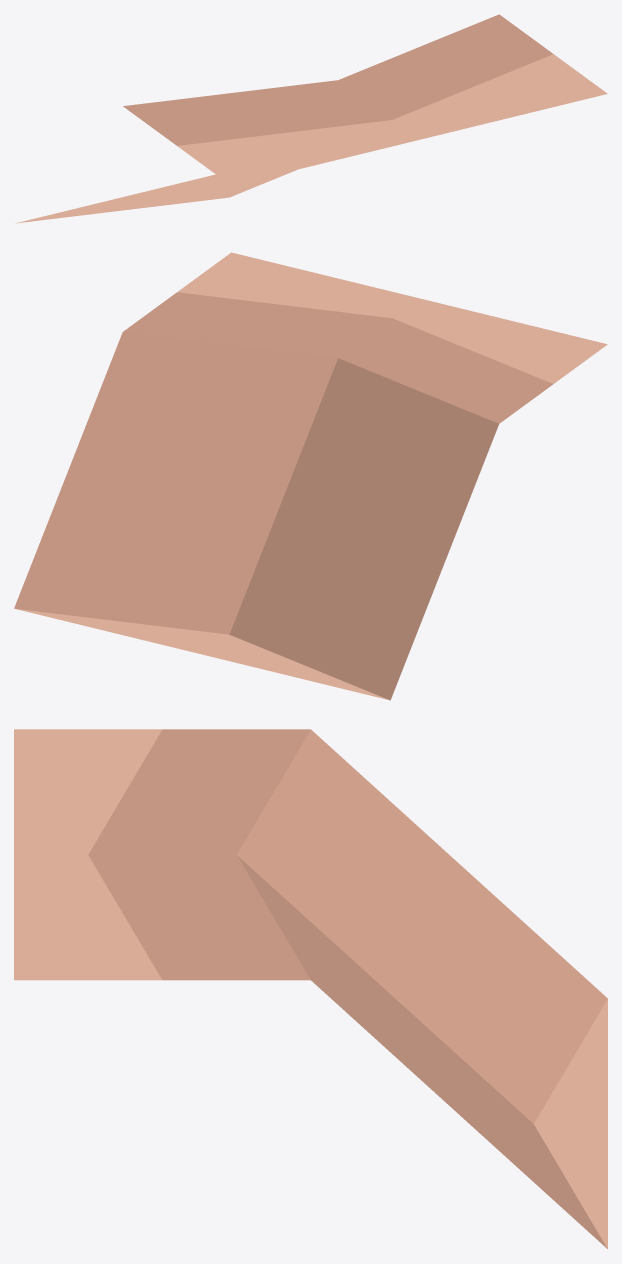
File: terrain_sidecliff.glb
3 renders of one model, top to bottom at view 1: azimuth 30°, elevation 25°; view 2: azimuth 150°, elevation 25°; view 3: azimuth 270°, elevation 25°, orthographic. The views are drawn at different scales.
Visible parts, largest first — view 1: terrain_sideCliff; view 2: terrain_sideCliff; view 3: terrain_sideCliff.
Boxes of the visible parts, x1,y1,x2,y2 form: terrain_sideCliff: (16,14,607,223); terrain_sideCliff: (14,252,607,700); terrain_sideCliff: (14,729,607,1248).
Bounding box in the file's own units: 1 × 0.5 × 1.
